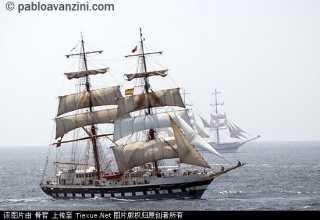fanchuan: (37, 29, 238, 201), (207, 84, 262, 146)
